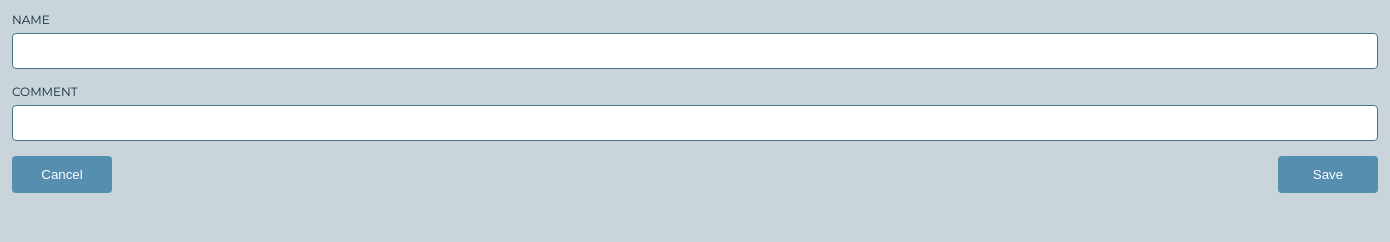
it: Required inputs
The width and height of the screenshot is (1390, 242).
Click the button "Save". click: [1328, 174]
box: left=1278, top=156, right=1378, bottom=193
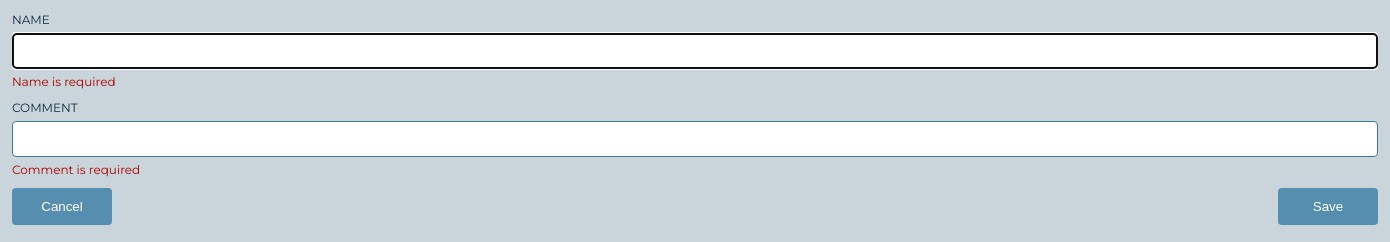
Expected: the text "Name is required" is shown, left=12, top=74, right=116, bottom=90
Expected: the text "Comment is required" is shown, left=12, top=162, right=140, bottom=178
